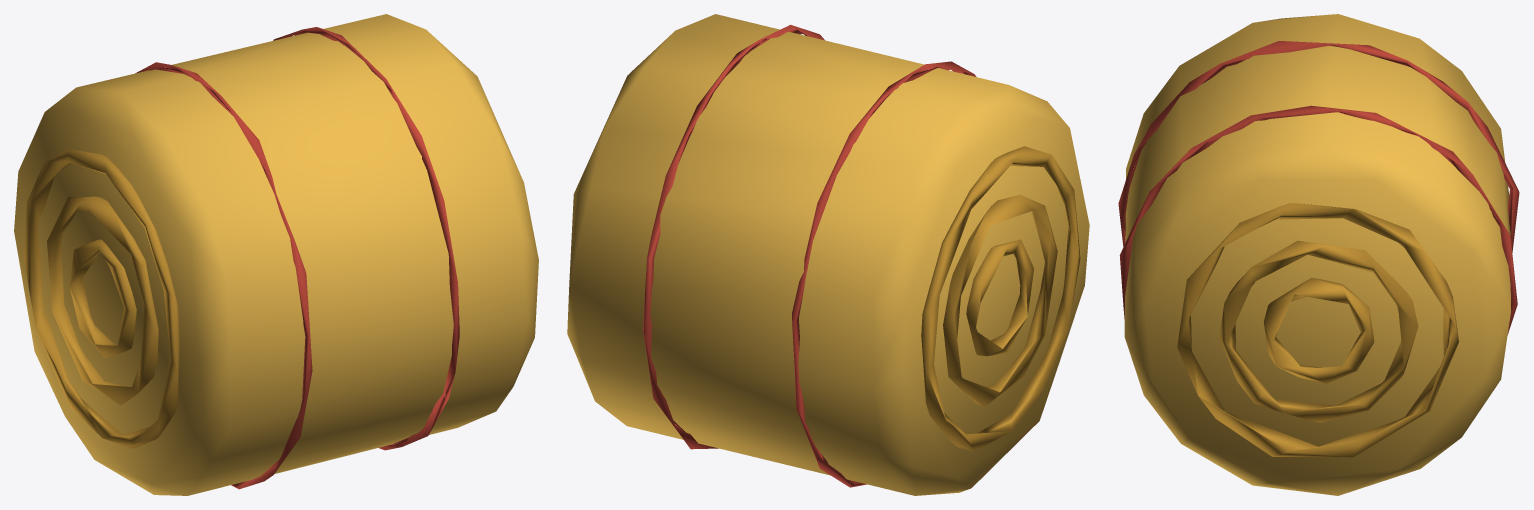
File: vl_bale_lod.glb
3 renders of one model, left to right at view 1: azimuth 30°, elevation 25°; view 2: azimuth 150°, elevation 25°; view 3: azimuth 270°, elevation 25°, orthographic. The views are drawn at different scales.
Visible parts, largest first — view 1: round_bale_lod; view 2: round_bale_lod; view 3: round_bale_lod.
Part boxes in pixels (box(x1,y1,x2,y2)): round_bale_lod: box(14, 14, 538, 495); round_bale_lod: box(567, 14, 1089, 495); round_bale_lod: box(1118, 14, 1519, 495).
Size of the model in its own units: 1.21 by 1.27 by 1.28.
